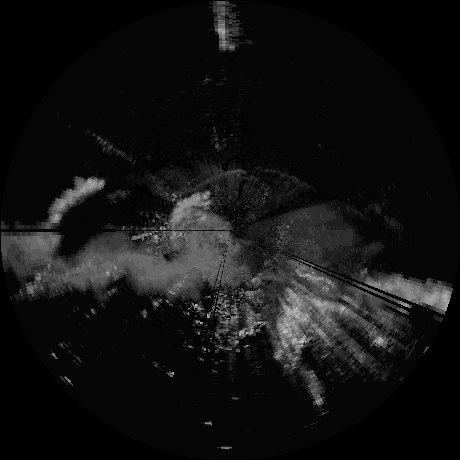frontgust: (177, 168, 245, 190), (264, 170, 309, 187)
